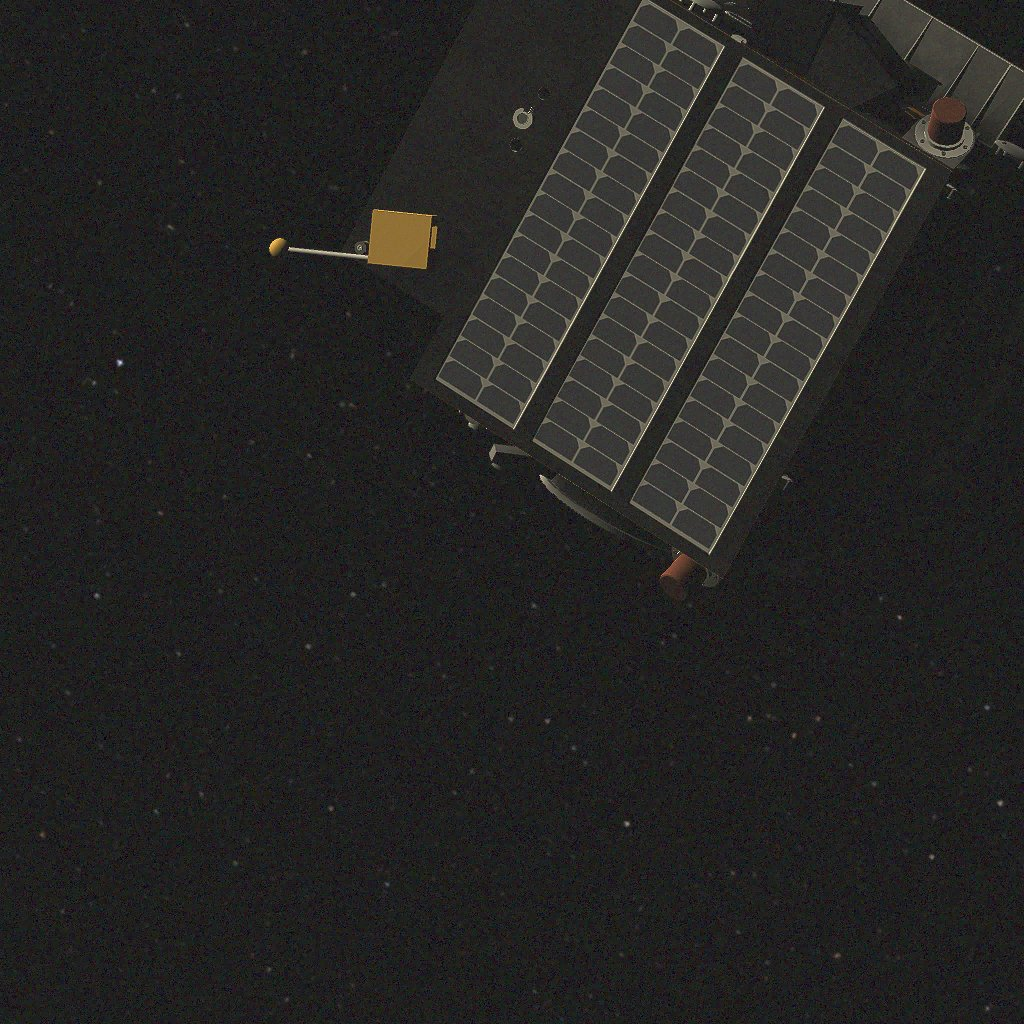proba_2: (269, 0, 1024, 683)
